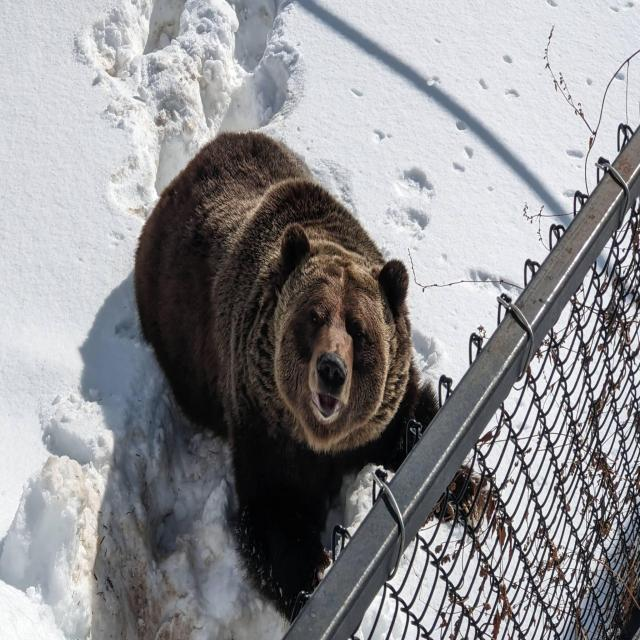Bear: (131, 131, 439, 591)
